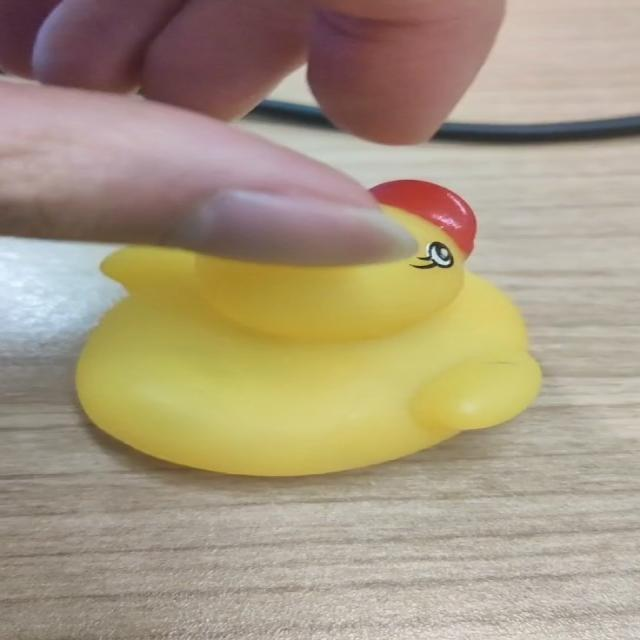rubber-duck: (76, 179, 539, 474)
